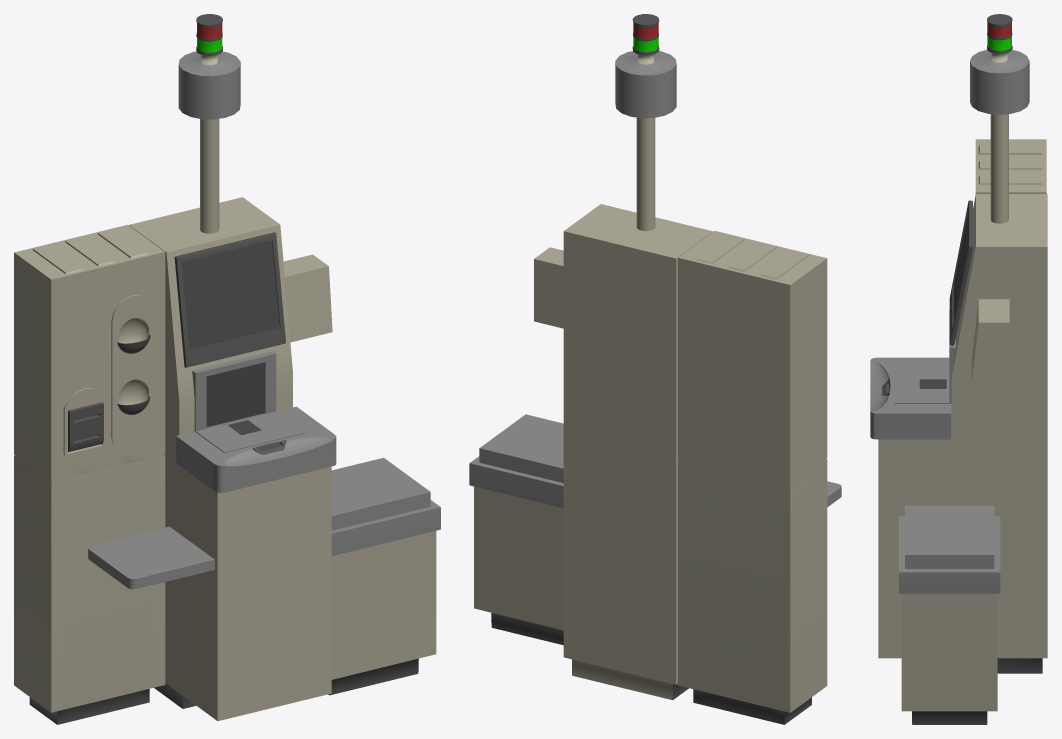
Rendered from selfCheckout.fbx.
The picture shows the model from 3 angles, left to right: view 1: azimuth 30°, elevation 25°; view 2: azimuth 150°, elevation 25°; view 3: azimuth 270°, elevation 25°; orthographic projection. The views are drawn at different scales.
Parts seen in each view (by area): view 1: polySurface7, pCube11, pCube3, pCube6, pCube12, pCylinder1, pCube8; view 2: polySurface7, pCube11, pCube3, pCylinder1; view 3: pCube11, pCube3, pCylinder1, polySurface7, pCube12, pCube6.
Boxes of the visible parts, x1,y1,x2,y2 form: polySurface7: (14,224,165,724); pCube11: (88,197,336,720); pCube3: (328,457,440,695); pCube6: (174,232,285,367); pCube12: (192,351,305,453); pCylinder1: (178,14,240,233); pCube8: (68,402,103,451); polySurface7: (678,231,827,724); pCube11: (534,204,841,700); pCube3: (469,414,563,645); pCylinder1: (615,14,676,230); pCube11: (870,194,1047,673); pCube3: (899,505,1000,724); pCylinder1: (970,14,1029,223); polySurface7: (975,139,1046,193); pCube12: (894,310,955,403); pCube6: (949,200,972,345).
Size of the model in its own units: 5.22 by 9.43 by 2.41.
